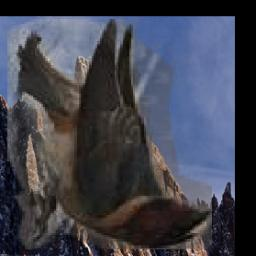Swallow: (8, 20, 213, 250)
